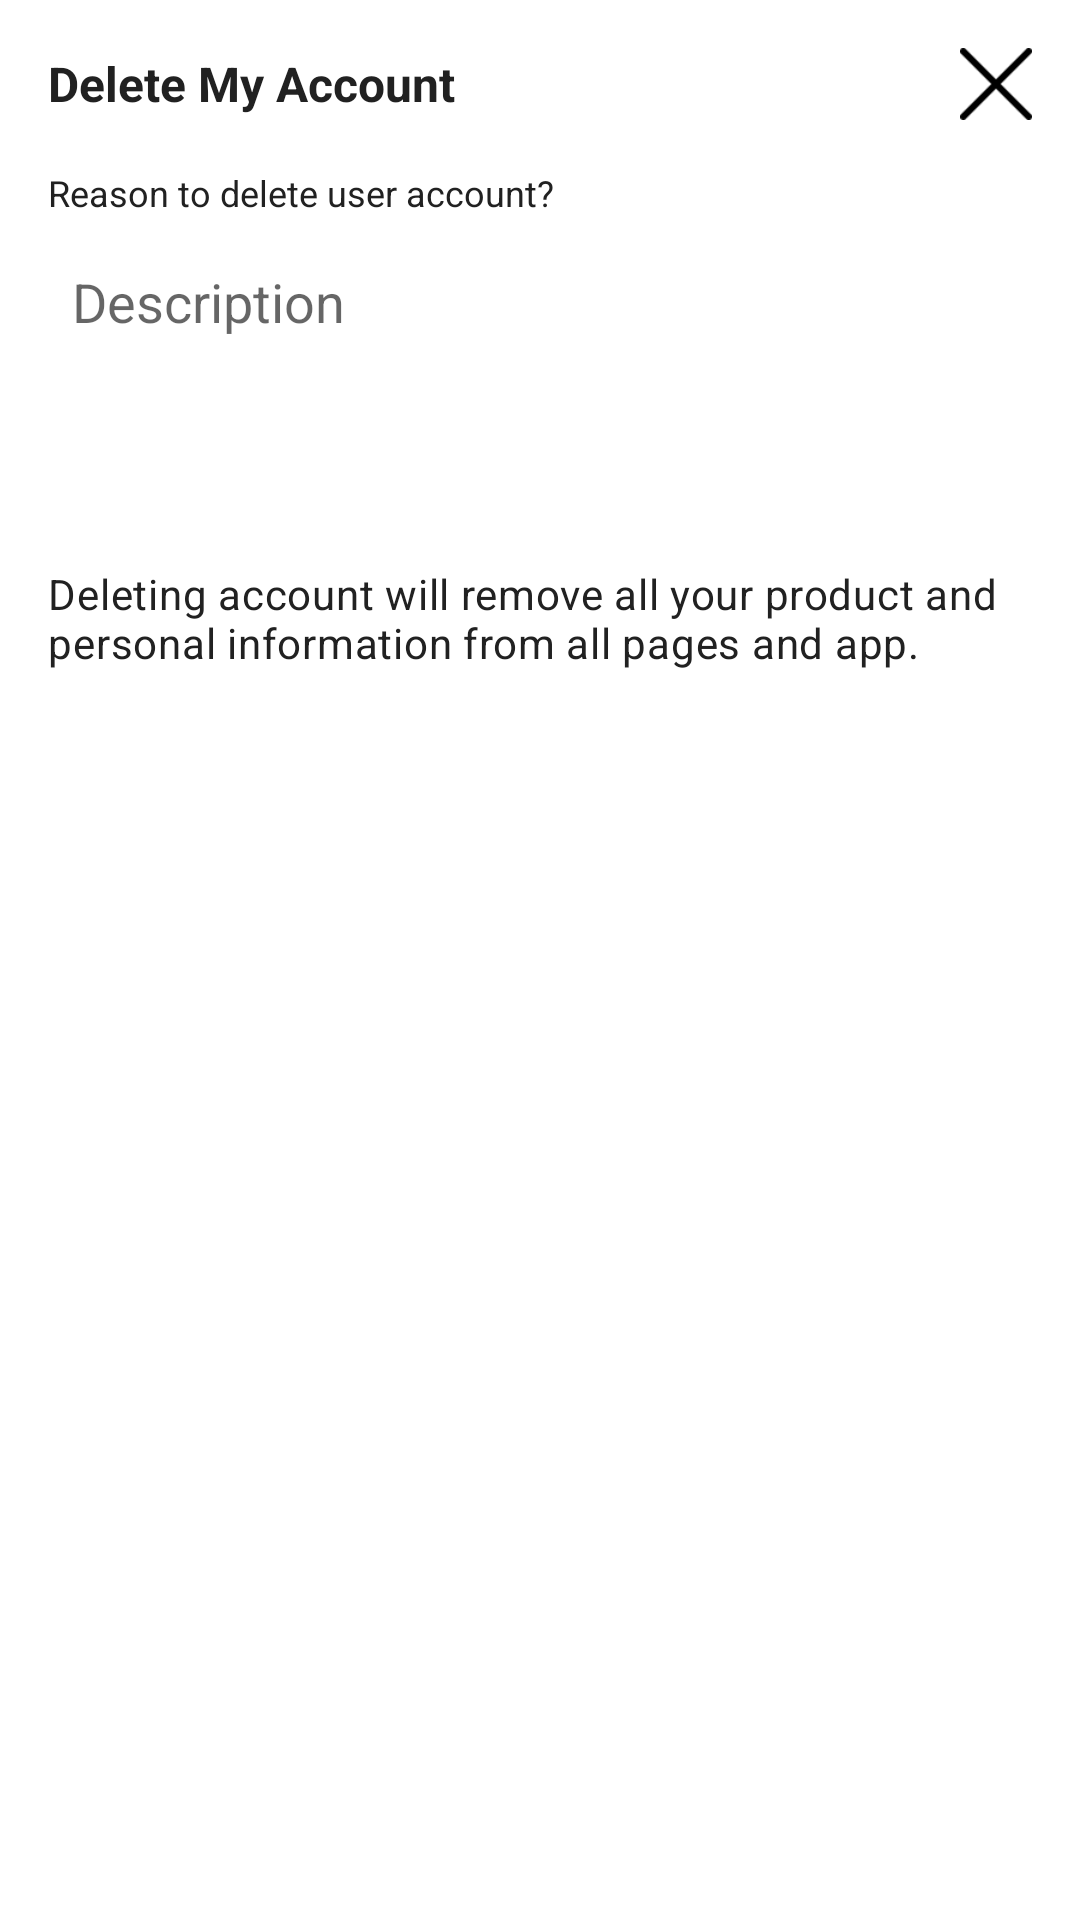

Icon bounding boxes for this 1080x1920 phone screenshot, format rect(x1, y1, x2, y2):
Cancel: rect(960, 48, 1032, 120)
